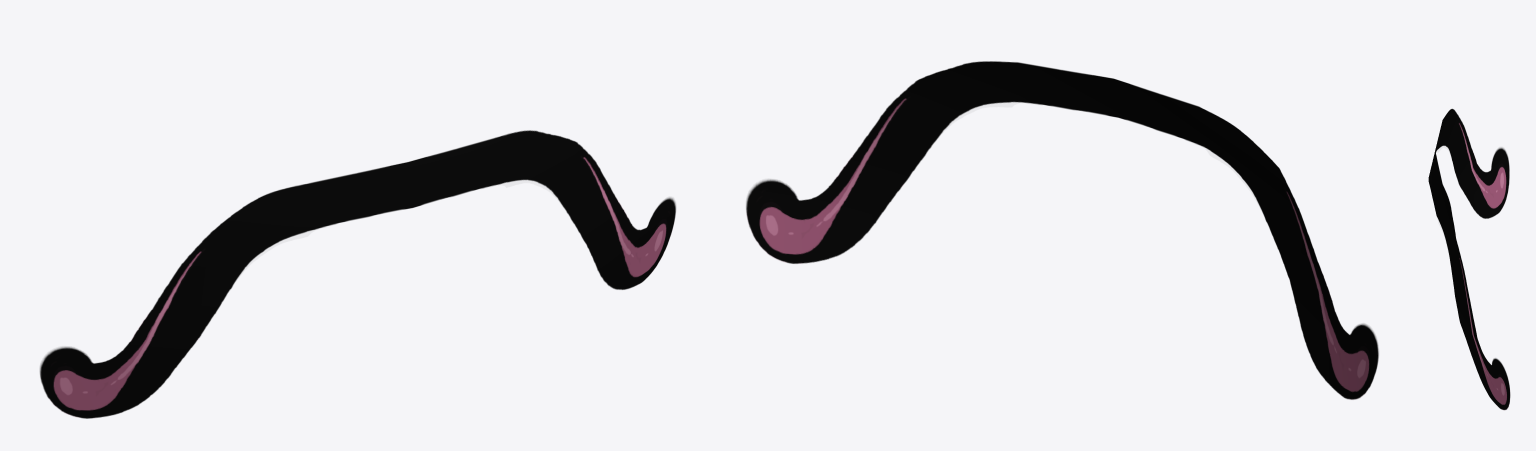
The model's file is Mouth4.glb.
3 renders of one model, left to right at view 1: azimuth 30°, elevation 25°; view 2: azimuth 150°, elevation 25°; view 3: azimuth 270°, elevation 25°, orthographic. The views are drawn at different scales.
Visible parts, largest first — view 1: Mouth4; view 2: Mouth4; view 3: Mouth4.
Part boxes in pixels (bbox=[...]): Mouth4: bbox=[39, 130, 675, 418]; Mouth4: bbox=[746, 61, 1378, 399]; Mouth4: bbox=[1428, 109, 1510, 410].
Bounding box in the file's own units: 0.1661 × 0.0674 × 0.0281.
1 material, 1 textured.
